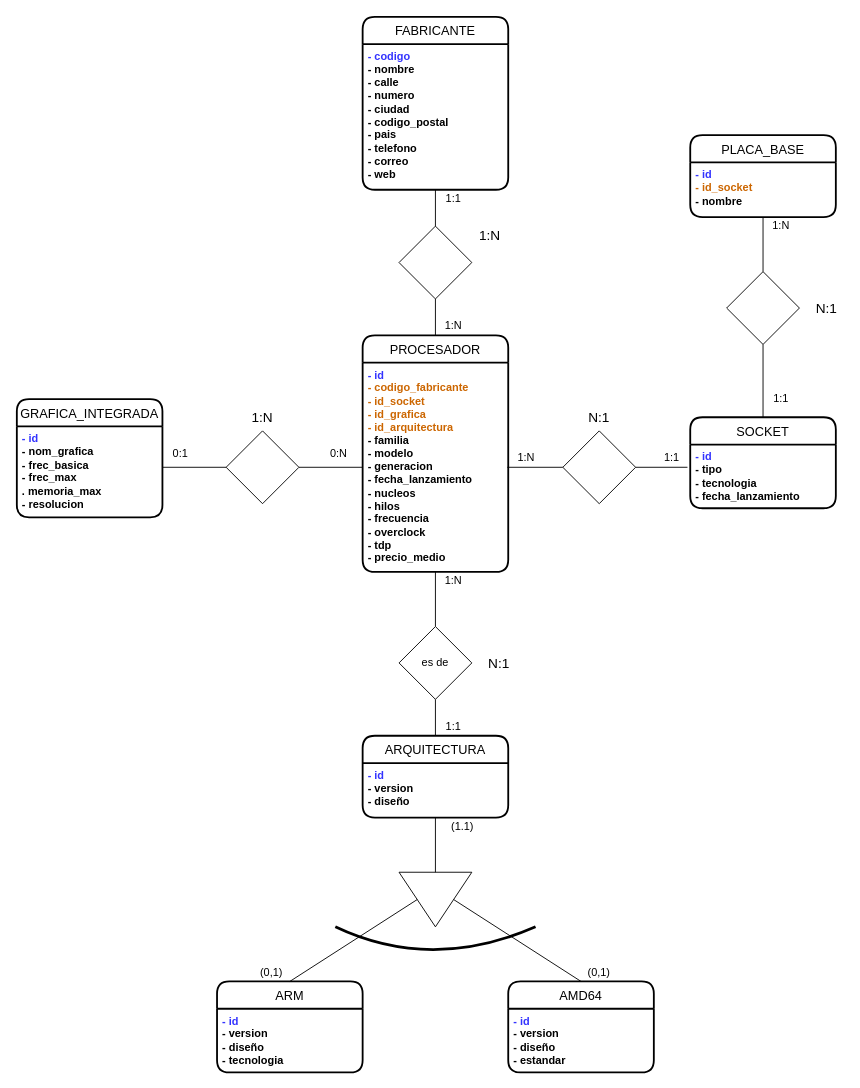
This 860x1088 diagram has some shape labels left out. The shapes that lost their labels are listed below. From the top down, each one's centre as x and y in pixels, then its label:
At [435,262]: "crea".
At [762,307]: "esta en".
At [262,467]: "tiene".
At [599,467]: "aloja".
